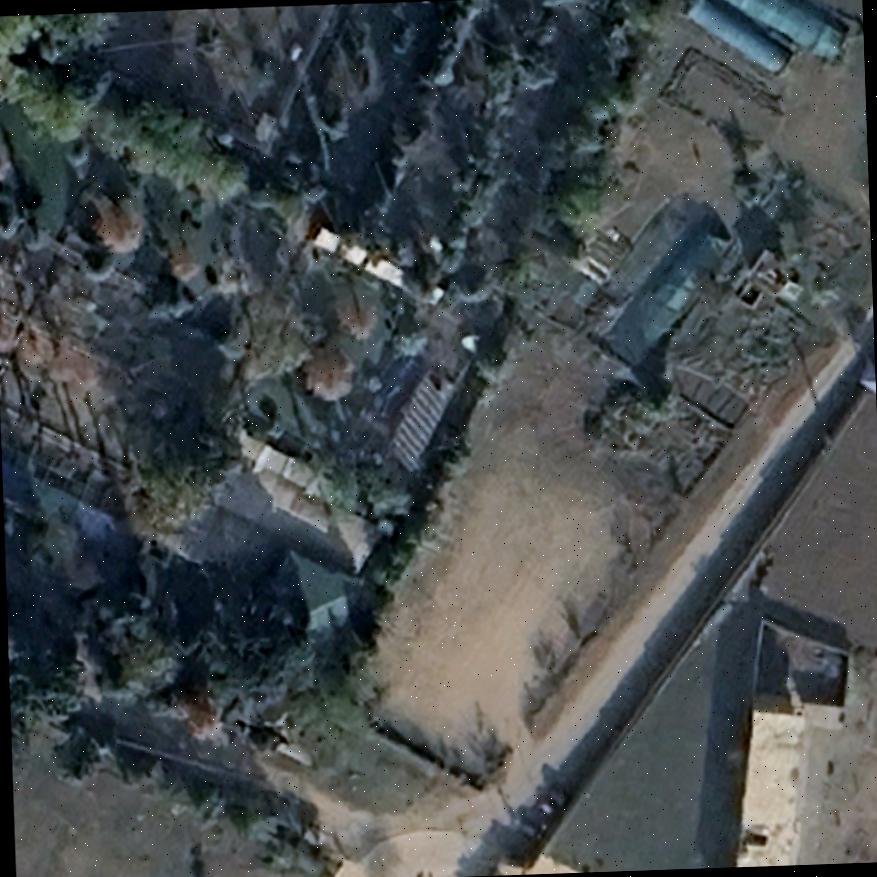Solarpanel: (382, 371, 453, 474)
